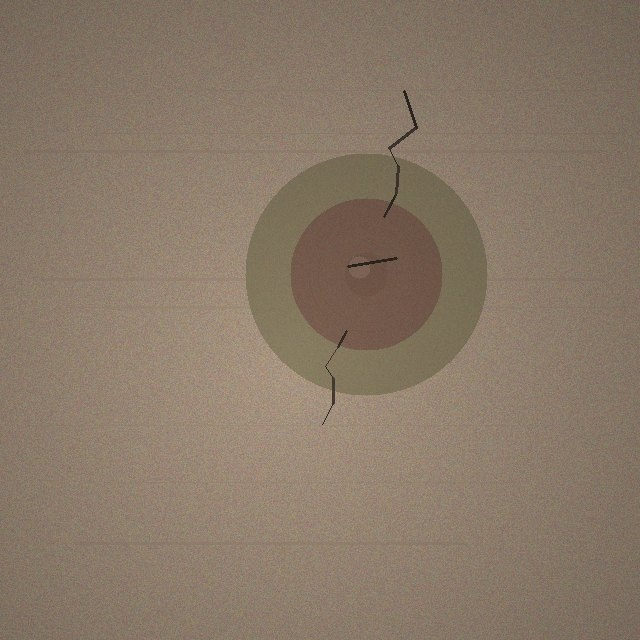crack: (245, 153, 487, 395)
